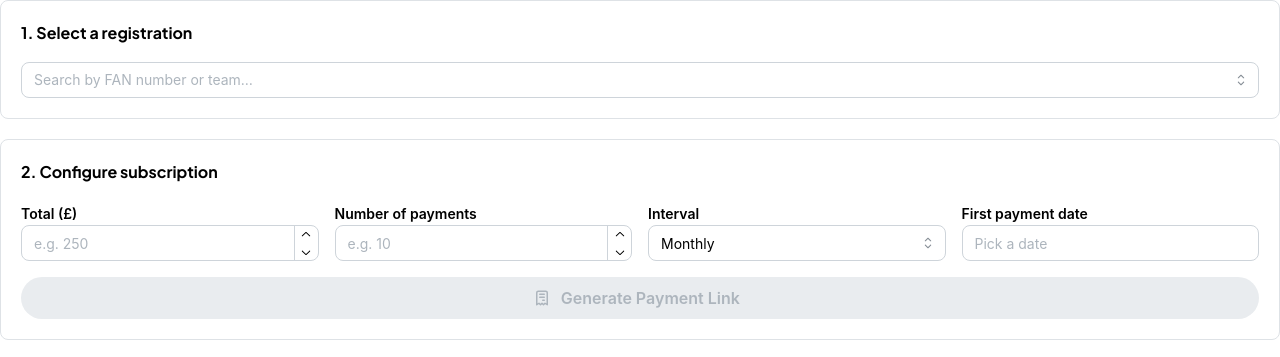
Test: PlayerSubscriptionsTab › discards a search the admin has already shortened
This screenshot has width=1280, height=357.
Type "Un" into the dropdown with placeholder "Search by FAN number or team…" at (640, 80), box [21,62,1259,98]
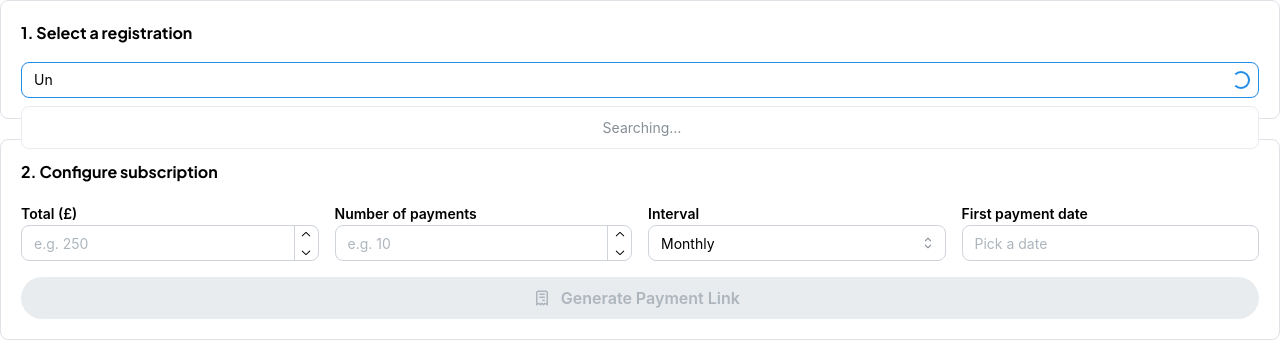
Replace the text in the dropdown with placeholder "Search by FAN number or team…" with "U" at (640, 80), box [21,62,1259,98]
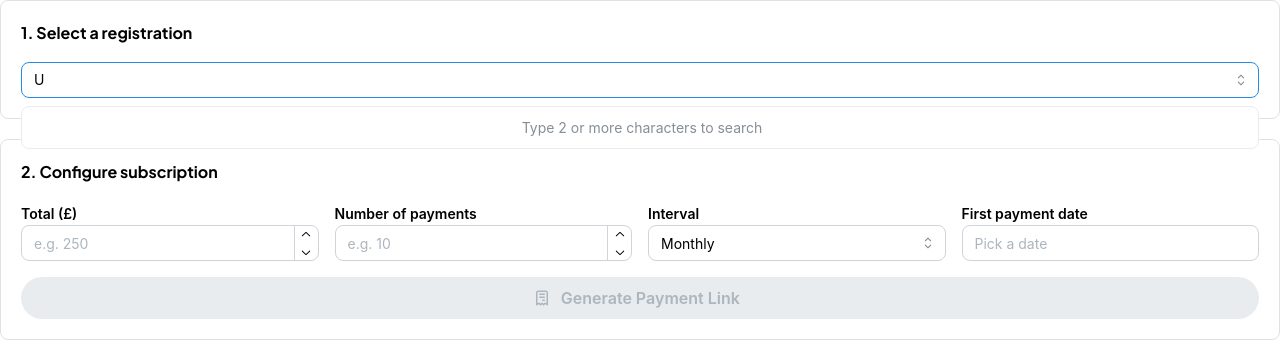
Expected: the text "Type 2 or more characters to search" is shown, [522,119,762,136]
